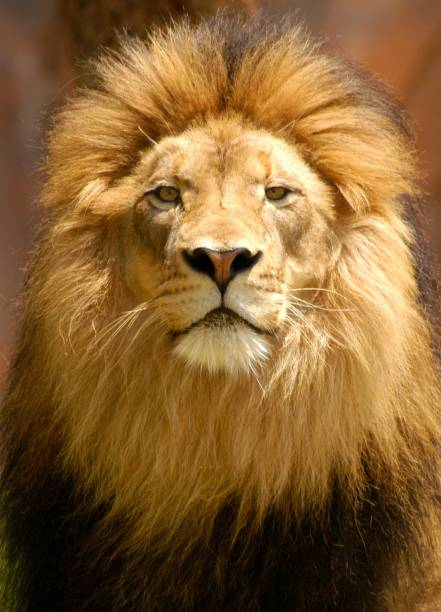lion: (6, 5, 441, 606)
